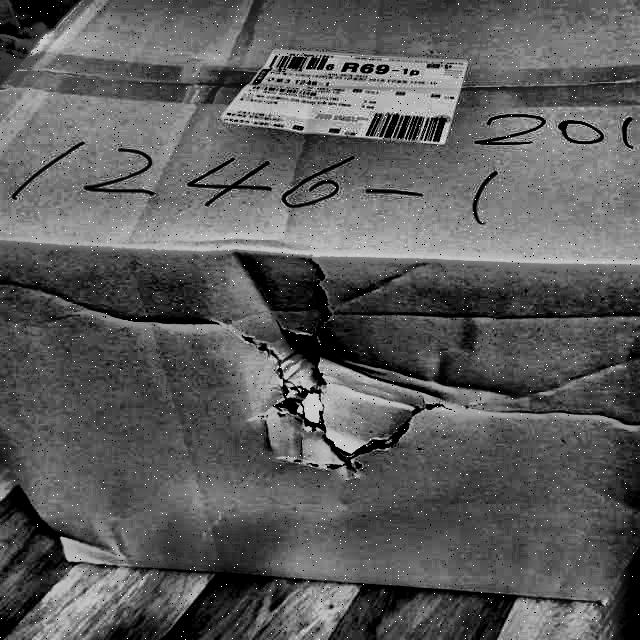box: (0, 0, 639, 617)
hole: (230, 306, 454, 480)
